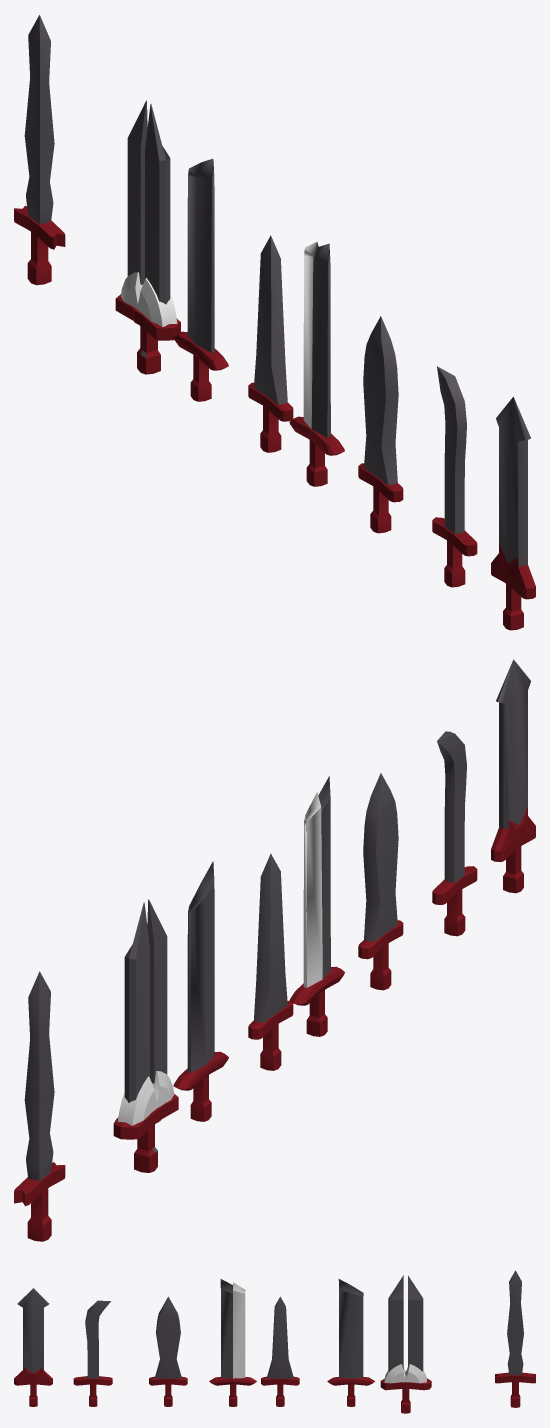
The model's file is Swords.fbx.
3 views of the same model, one above another, from view 1: azimuth 30°, elevation 25°; view 2: azimuth 150°, elevation 25°; view 3: azimuth 270°, elevation 25° (orthographic). The views are drawn at different scales.
Parts seen in each view (by area): view 1: Cube.005, Cube.002, Cube.006, Cube.001, Cube.009, Cube.007, Cube.004, Cube.008; view 2: Cube.005, Cube.002, Cube.006, Cube.001, Cube.009, Cube.007, Cube.004, Cube.008; view 3: Cube.005, Cube.006, Cube.001, Cube.009, Cube.007, Cube.002, Cube.004, Cube.008.
Part boxes in pixels (x1,y1,x2,y2): Cube.005: (115, 100, 180, 374); Cube.002: (14, 15, 65, 285); Cube.006: (289, 242, 344, 486); Cube.001: (173, 158, 228, 401); Cube.009: (491, 396, 535, 630); Cube.007: (358, 316, 403, 533); Cube.004: (248, 235, 293, 452); Cube.008: (432, 366, 477, 587); Cube.005: (113, 899, 178, 1172); Cube.002: (14, 971, 65, 1241); Cube.006: (289, 776, 344, 1036); Cube.001: (173, 861, 228, 1121); Cube.009: (491, 659, 535, 893); Cube.007: (358, 773, 403, 990); Cube.004: (248, 853, 293, 1070); Cube.008: (432, 731, 477, 936); Cube.005: (380, 1275, 431, 1413); Cube.006: (209, 1279, 256, 1406); Cube.001: (327, 1279, 374, 1406); Cube.009: (14, 1288, 52, 1406); Cube.007: (149, 1296, 187, 1406); Cube.002: (495, 1270, 535, 1407); Cube.004: (261, 1296, 299, 1406); Cube.008: (73, 1300, 112, 1406).
Bounding box in the file's own units: 14.19 × 136 × 455.
